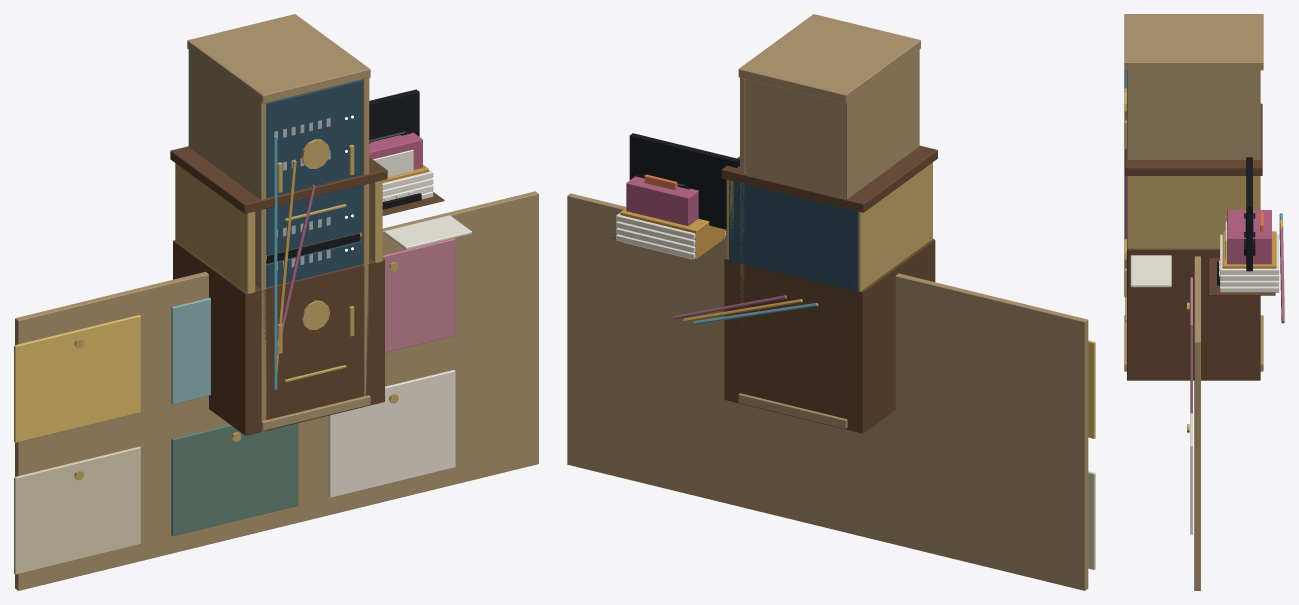
The model's file is departements-v01.glb.
3 renders of one model, left to right at view 1: azimuth 30°, elevation 25°; view 2: azimuth 150°, elevation 25°; view 3: azimuth 270°, elevation 25°, orthographic. The views are drawn at different scales.
Parts seen in each view (by area): view 1: Support liège, Piédestal, Échantillon.003, Échantillon, Porte blindée.001, Échantillon.005, Échantillon.004, Joue, Dessus, Échantillon.002, Montant, Échantillon.001 (+13 smaller); view 2: Support liège, Piédestal, Fond du coffret, Fond opaque, Dessus, Joue, Montant, Second écran, Couvercle, Packaging vide, Boîte outils, Joue.001 (+3 smaller); view 3: Piédestal, Joue.001, Montant.001, Dessus, Support liège, Couvercle, Packaging vide, Fiche entretien, Second écran, Fiches en pile.003, Sous-main, Boîte outils (+7 smaller).
Boxes of the visible parts, x1,y1,x2,y2 form: Support liège: [15, 191, 538, 590]; Piédestal: [173, 240, 384, 435]; Échantillon.003: [14, 446, 140, 574]; Échantillon: [14, 315, 140, 442]; Porte blindée.001: [266, 80, 362, 255]; Échantillon.005: [328, 370, 455, 497]; Échantillon.004: [171, 423, 298, 536]; Joue: [188, 40, 266, 431]; Dessus: [187, 14, 370, 103]; Échantillon.002: [382, 238, 455, 352]; Montant: [175, 163, 255, 293]; Échantillon.001: [171, 297, 210, 404]; Support liège: [567, 193, 1088, 590]; Piédestal: [724, 239, 935, 433]; Fond du coffret: [729, 180, 858, 291]; Fond opaque: [745, 66, 845, 197]; Dessus: [738, 14, 920, 103]; Joue: [842, 40, 919, 339]; Montant: [853, 162, 932, 291]; Second écran: [629, 133, 739, 229]; Couvercle: [721, 145, 937, 212]; Packaging vide: [626, 175, 698, 225]; Boîte outils: [620, 208, 725, 259]; Joue.001: [740, 15, 814, 336]; Piédestal: [1127, 248, 1260, 380]; Joue.001: [1127, 60, 1260, 159]; Montant.001: [1127, 176, 1260, 248]; Dessus: [1124, 14, 1263, 70]; Support liège: [1194, 256, 1200, 590]; Couvercle: [1125, 103, 1262, 175]; Packaging vide: [1227, 210, 1271, 264]; Fiche entretien: [1130, 255, 1171, 287]; Second écran: [1246, 157, 1252, 271]; Fiches en pile.003: [1220, 234, 1279, 274]; Sous-main: [1208, 258, 1275, 295]; Boîte outils: [1222, 231, 1276, 268].
Bounding box in the file's own units: 3.01 × 2.59 × 0.864.
